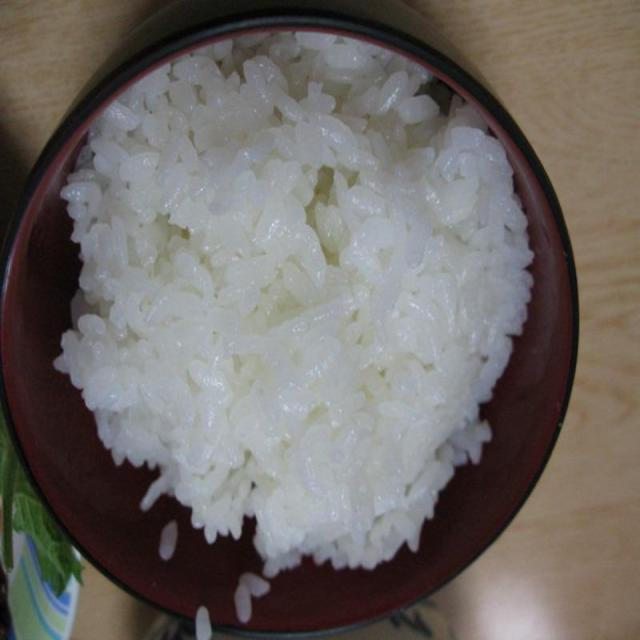nasi_putih: (57, 30, 532, 574)
